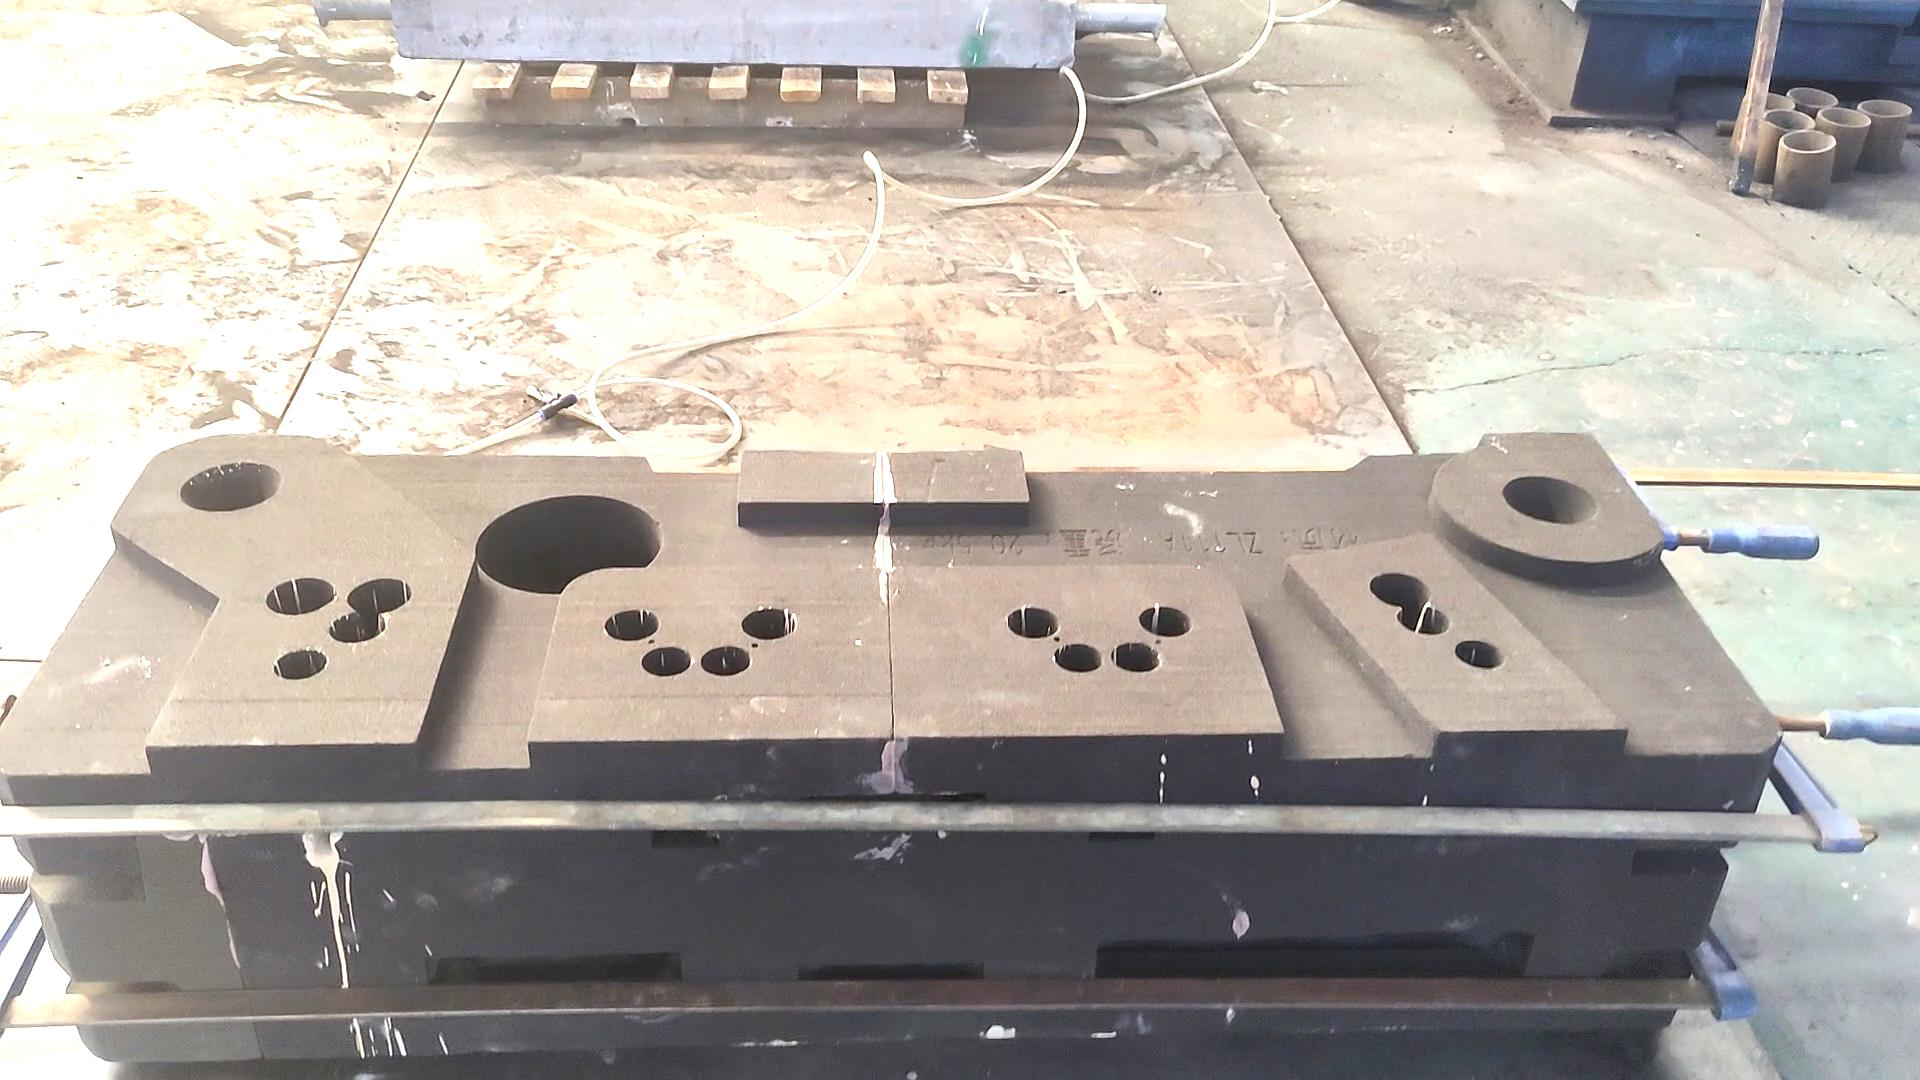pouring hole: (177, 462, 284, 512), (1502, 477, 1598, 525), (1759, 109, 1815, 132), (1780, 131, 1836, 153), (1746, 90, 1795, 112), (1789, 86, 1837, 107), (1859, 99, 1911, 117), (1821, 107, 1869, 127)
